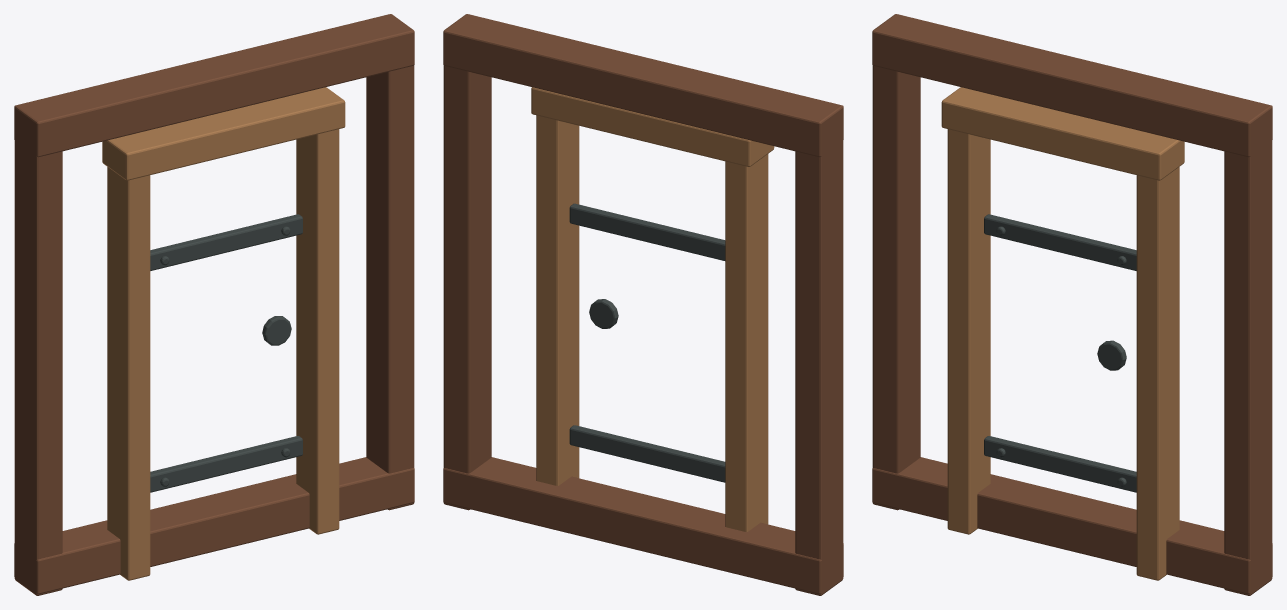
Rendered from wall_door_2m__structure.glb.
The picture shows the model from 3 angles, left to right: view 1: azimuth 30°, elevation 25°; view 2: azimuth 150°, elevation 25°; view 3: azimuth 330°, elevation 25°; orthographic projection.
Parts seen in each view (by area): view 1: wall_door_2m__structure__mesh_00; view 2: wall_door_2m__structure__mesh_00; view 3: wall_door_2m__structure__mesh_00.
Part boxes in pixels (x1=…): wall_door_2m__structure__mesh_00: x1=14, y1=14, x2=414, y2=595; wall_door_2m__structure__mesh_00: x1=443, y1=14, x2=843, y2=595; wall_door_2m__structure__mesh_00: x1=872, y1=14, x2=1272, y2=595.
Size of the model in its own units: 2 by 2.4 by 0.31.
